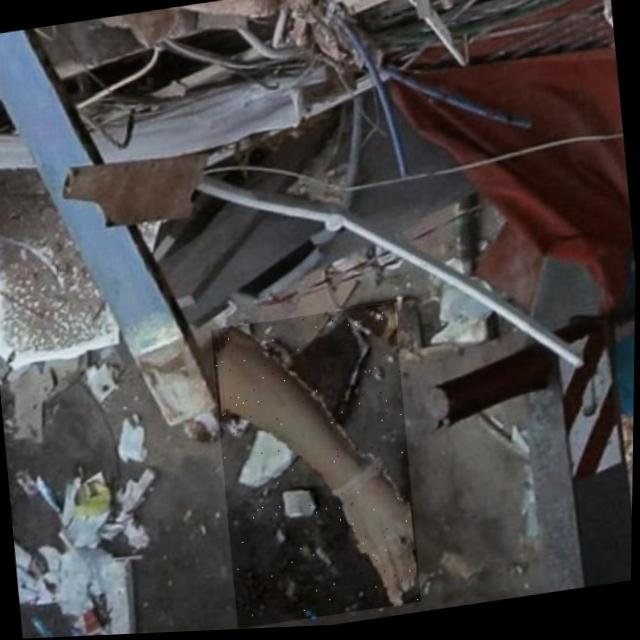Person in Rubble: (208, 303, 426, 631)
